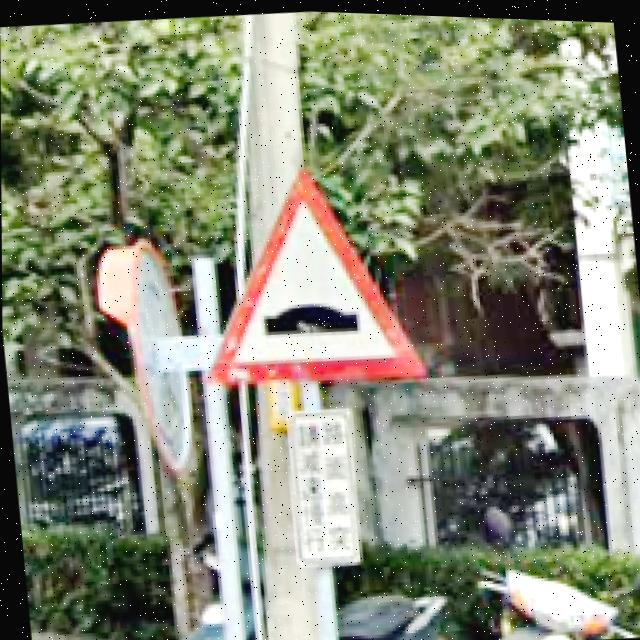hump: (205, 168, 426, 381)
